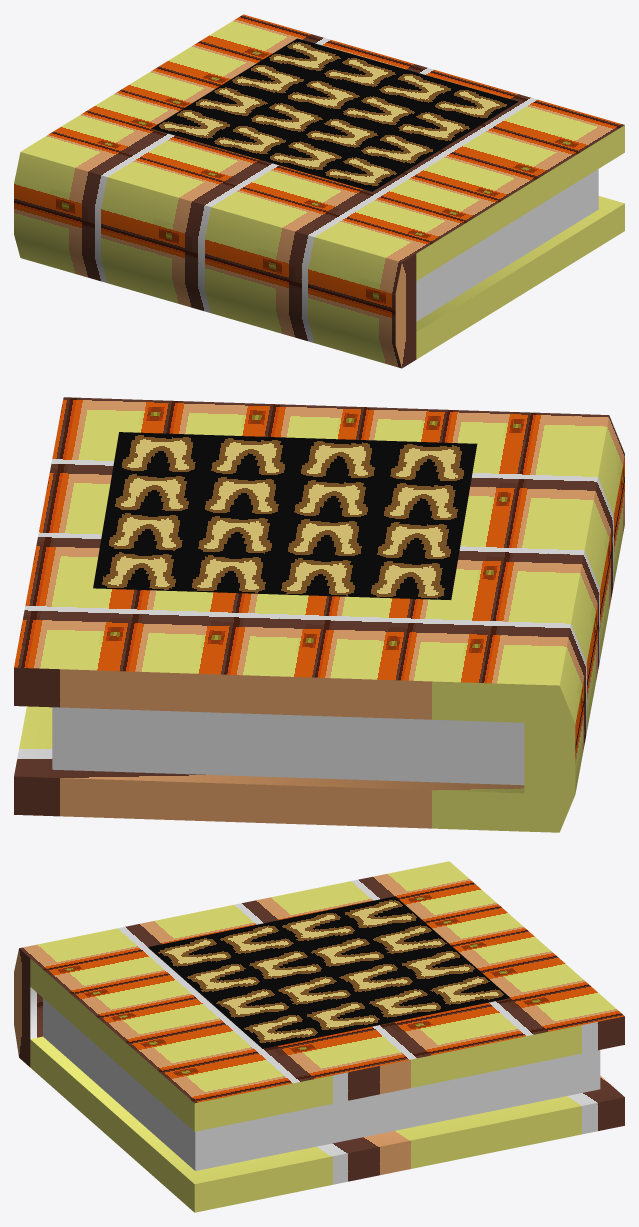
File: 5264so_book_cl0.gltf
3 renders of one model, top to bottom at view 1: azimuth 30°, elevation 25°; view 2: azimuth 150°, elevation 25°; view 3: azimuth 270°, elevation 25°, orthographic. The views are drawn at different scales.
Visible parts, largest first — view 1: 5264so_book_cl0; view 2: 5264so_book_cl0; view 3: 5264so_book_cl0.
Boxes of the visible parts, <box> form: 5264so_book_cl0: <box>14,14,624,368</box>; 5264so_book_cl0: <box>14,397,624,832</box>; 5264so_book_cl0: <box>14,861,624,1212</box>.
Bounding box in the file's own units: 0.6206 × 0.1489 × 0.6499.
2 materials, 2 textured.
